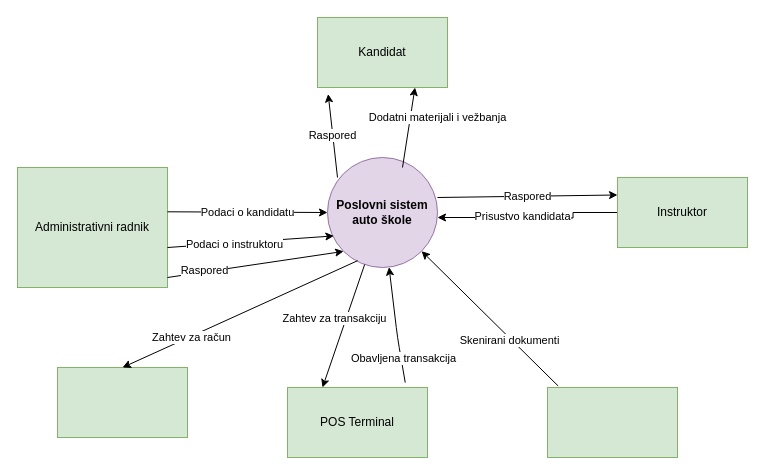
The diagram is 765 pixels wide and 475 high, and some of its shapes have lost their labels. The centre of each missing label's shape, as x and y in pixels:
Fiskalna kasa: point (122, 402)
Skener: point (612, 422)
